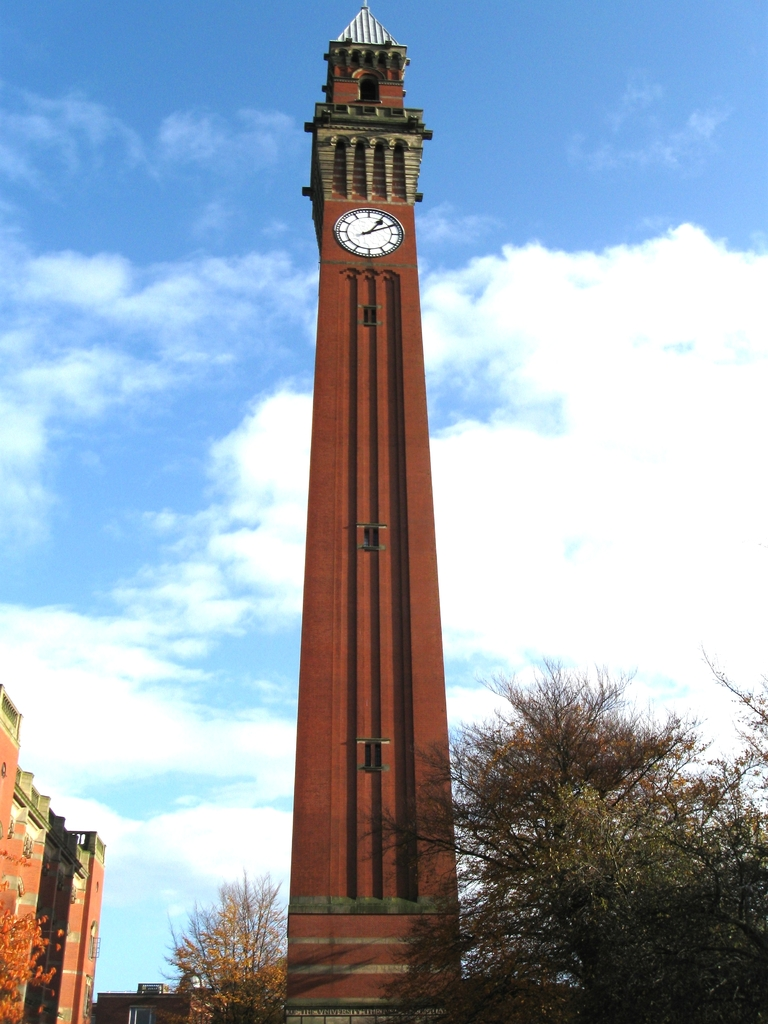Tree: (355, 640, 767, 1024), (158, 861, 289, 1024), (0, 846, 67, 1024)
